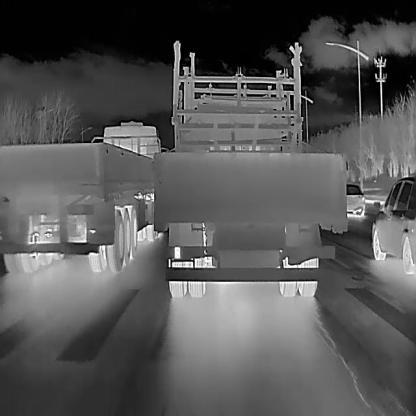car: (152, 86, 347, 297), (0, 119, 168, 274), (370, 176, 416, 275), (341, 182, 366, 218)
